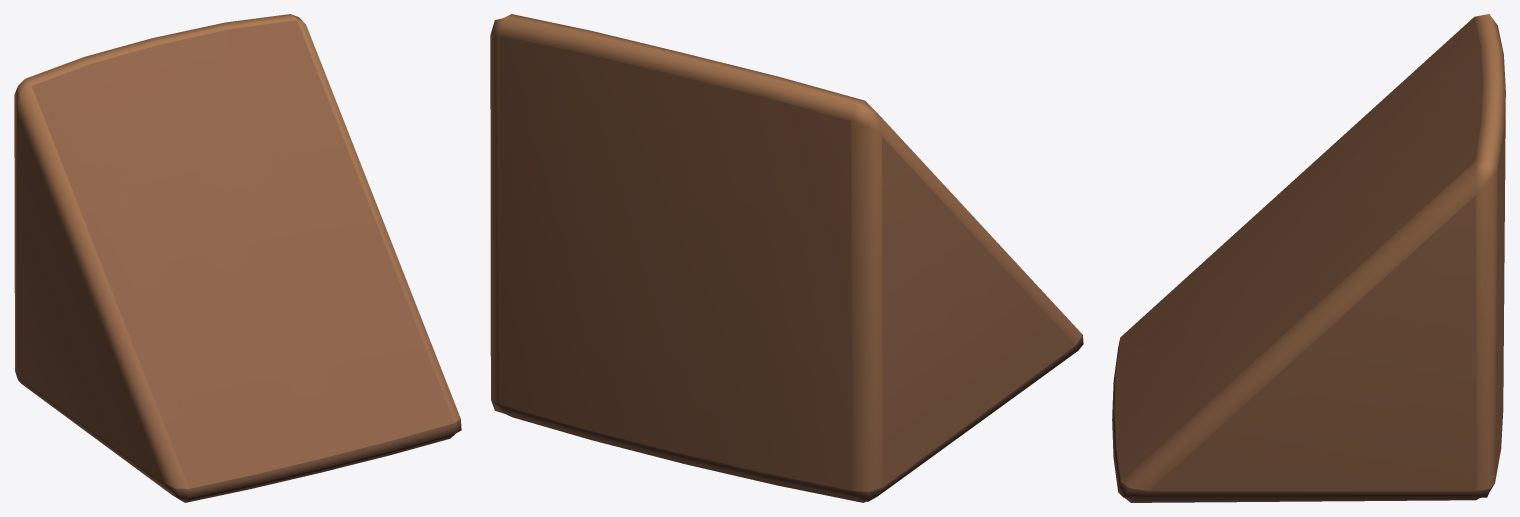
Rendered from Clay_Slope_Straight.fbx.
The picture shows the model from 3 angles, left to right: view 1: azimuth 30°, elevation 25°; view 2: azimuth 150°, elevation 25°; view 3: azimuth 270°, elevation 25°; orthographic projection. The views are drawn at different scales.
Visible parts, largest first — view 1: Clay_Slope_Straight_LOD0; view 2: Clay_Slope_Straight_LOD0; view 3: Clay_Slope_Straight_LOD0.
Boxes of the visible parts, bbox=[...] form: Clay_Slope_Straight_LOD0: bbox=[14, 14, 461, 502]; Clay_Slope_Straight_LOD0: bbox=[490, 14, 1083, 502]; Clay_Slope_Straight_LOD0: bbox=[1112, 14, 1505, 502].
Size of what is drawn, in the model's own units: 1.04 by 1.06 by 1.08.
